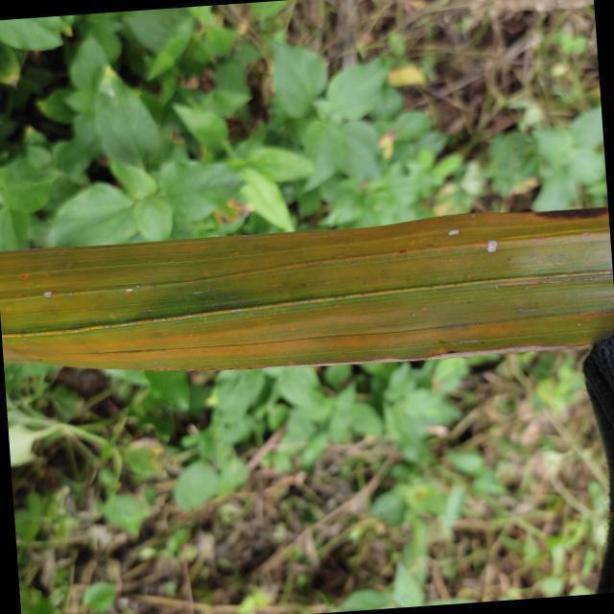Megnesium: (0, 211, 614, 379)
